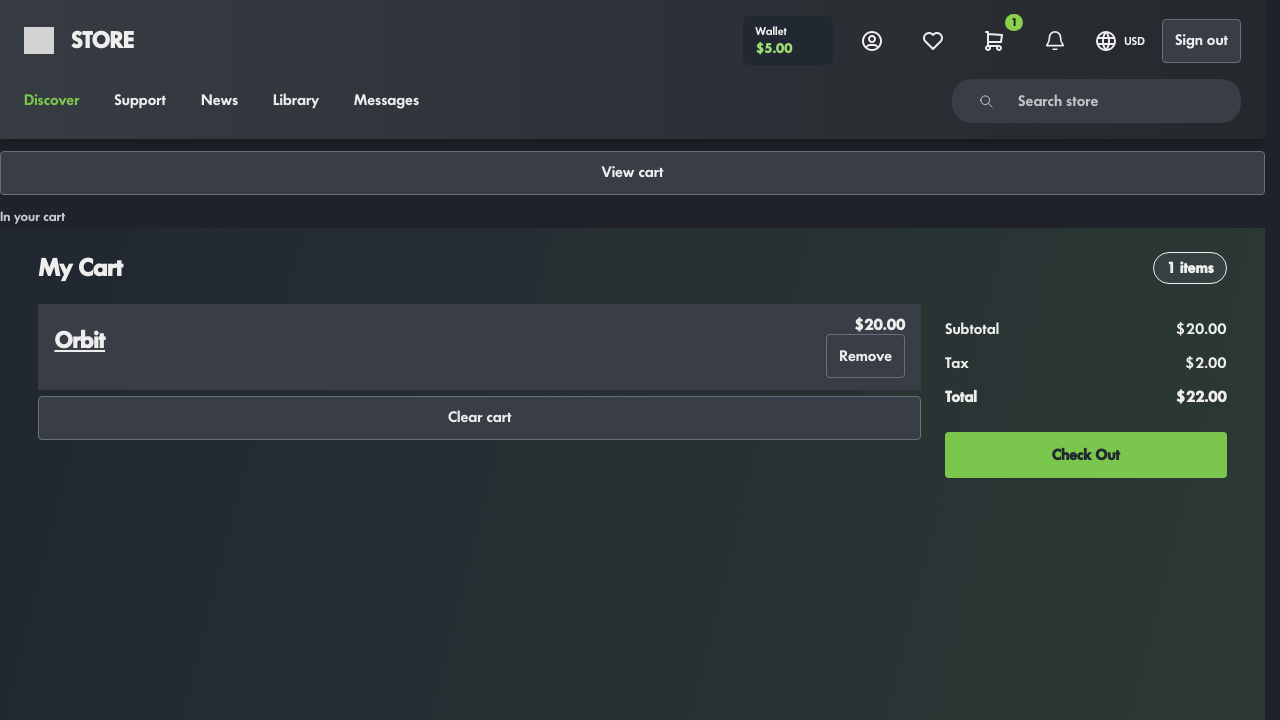
Test: blocks unsafe wallet payments and still allows choosing a bank card ({"balance":"5.00","currency":"USD","is_frozen":false})
Later steps or results of the test are not shown.
Click the button "Check Out" at (1086, 455), box [945,432,1227,478]
(page scrolled)
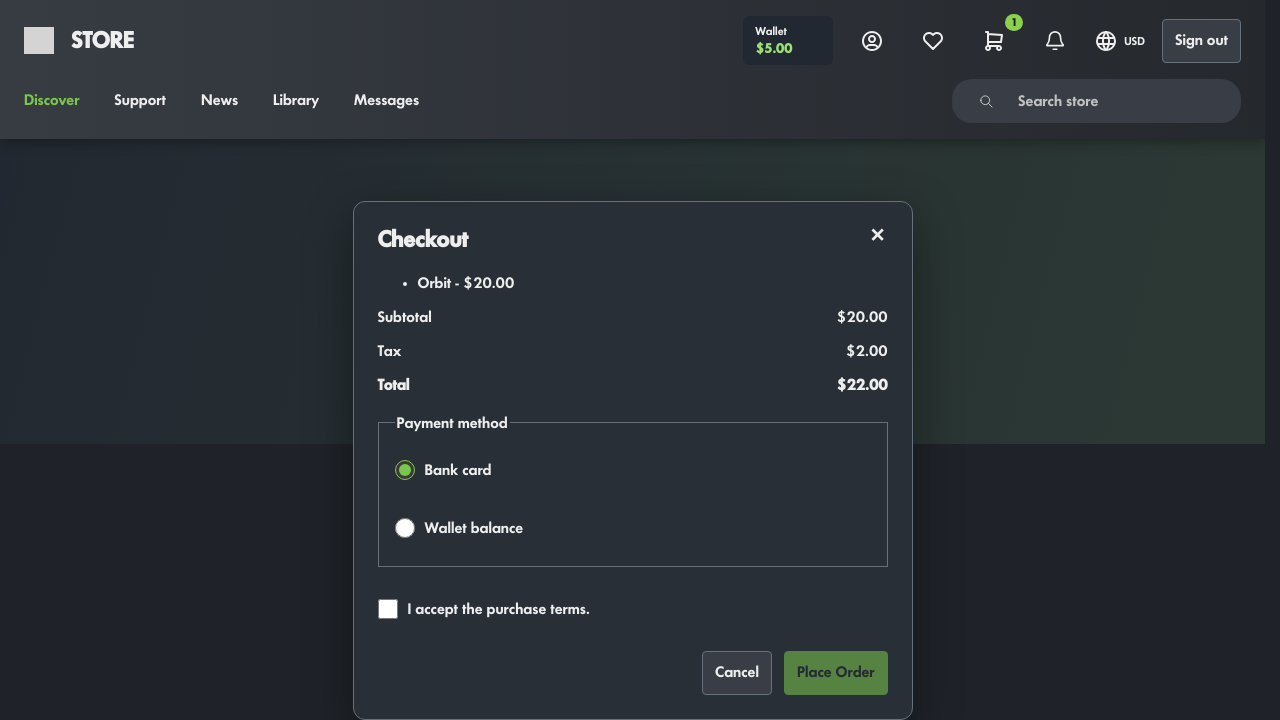
Click the radio button labelled "Wallet balance" at (404, 528), box [394,518,414,538]
(page scrolled)
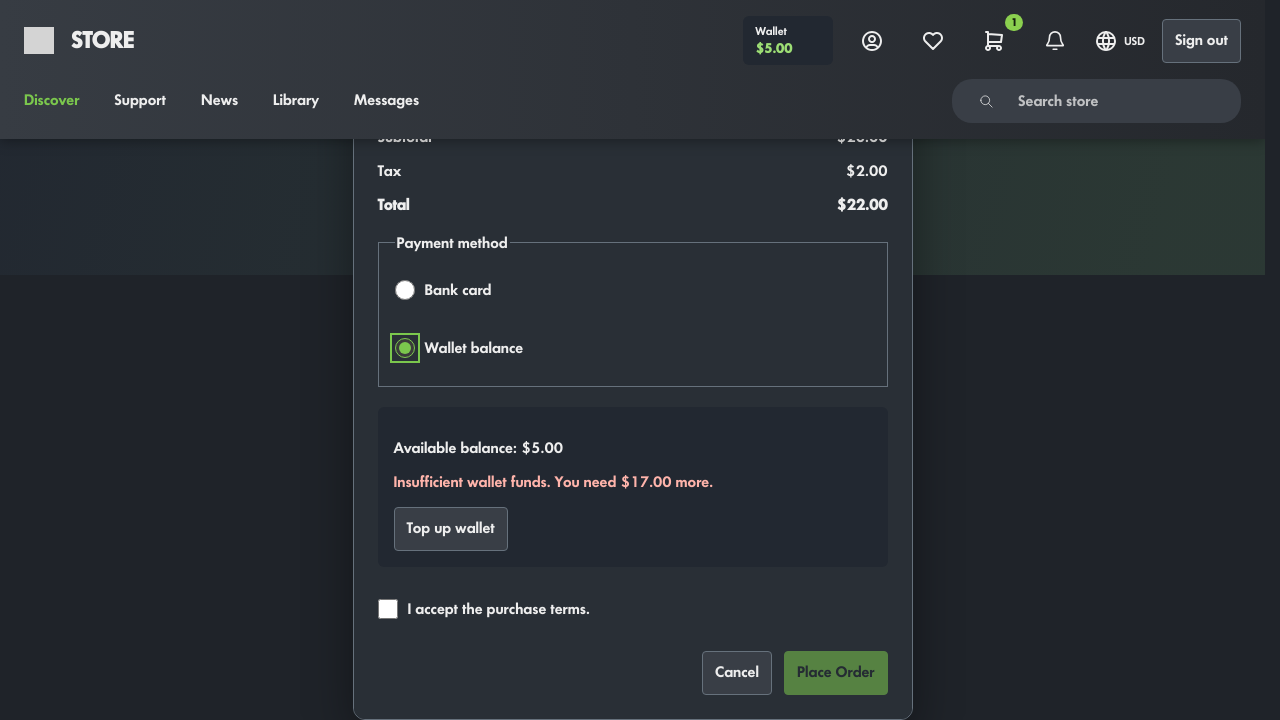
Click the checkbox at (388, 609), box [378,599,398,619]
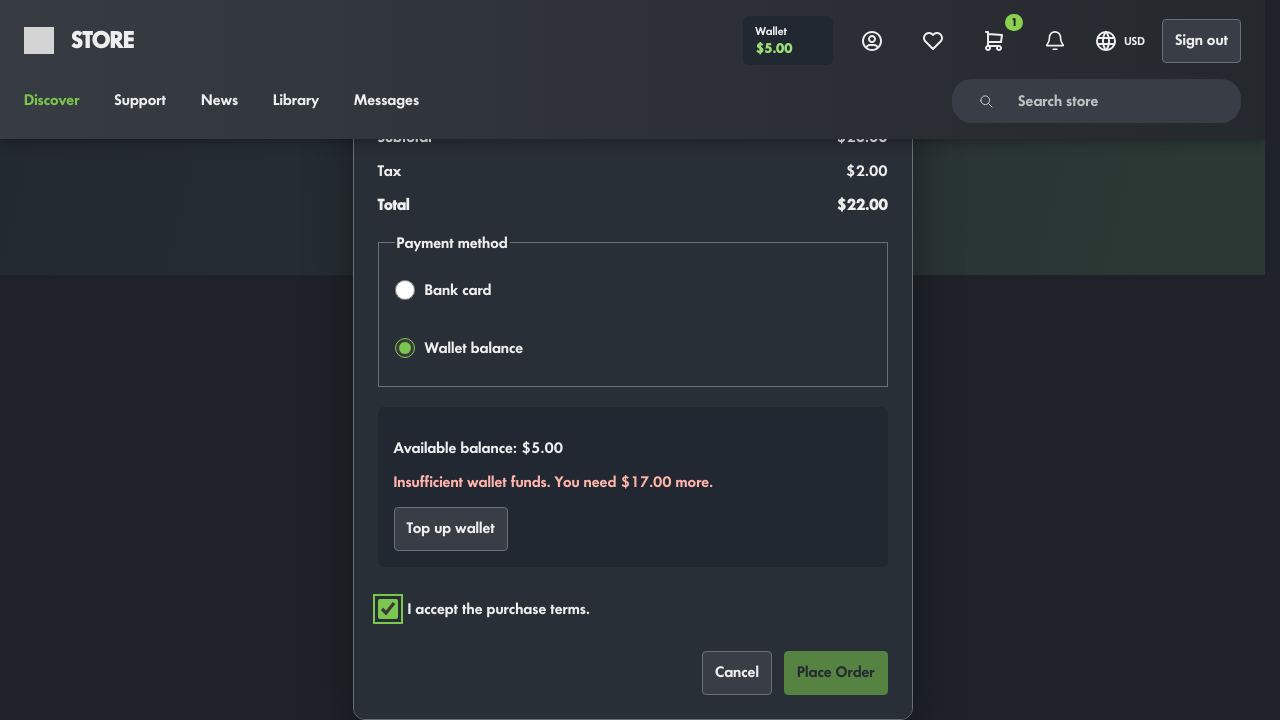
Result: the text "Insufficient wallet funds. You need $17.00 more." is shown at [394,474,713,490]
Result: the button "Place Order" is disabled
Click the button "Place Order" at (836, 673), box [784,651,888,695]
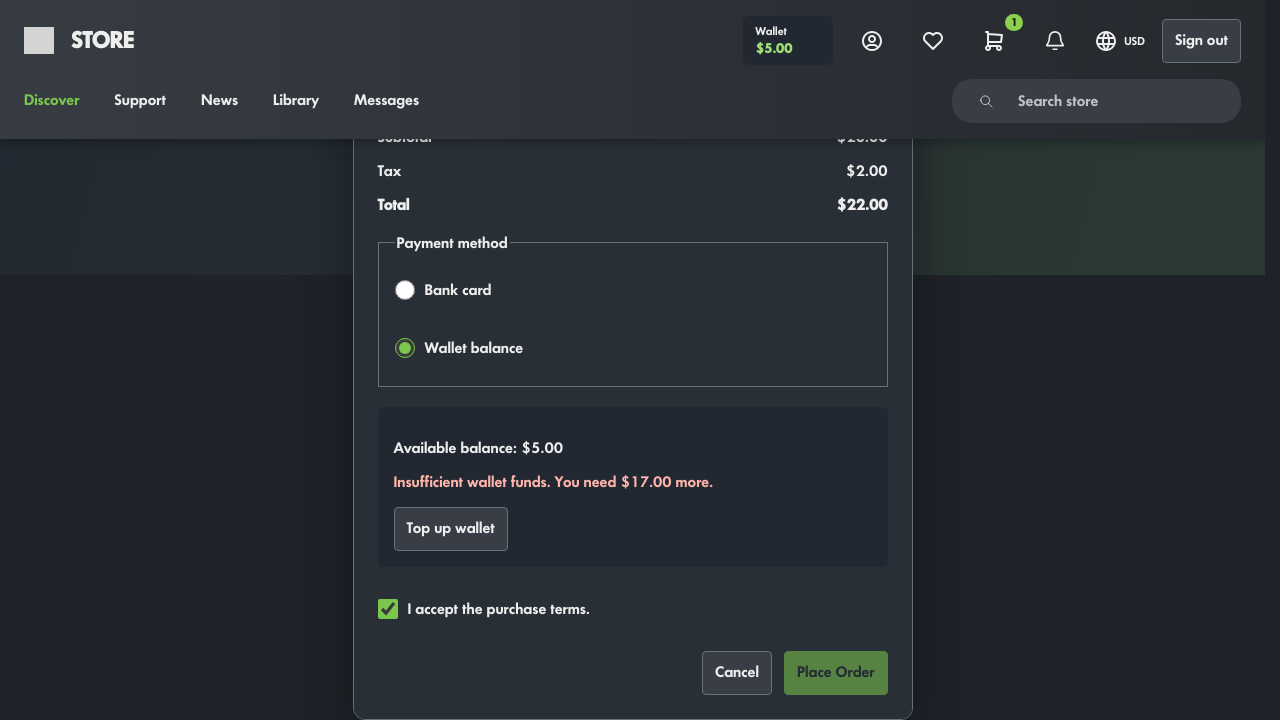
Click the radio button labelled "Bank card" at (404, 290), box [394,280,414,300]
(page scrolled)
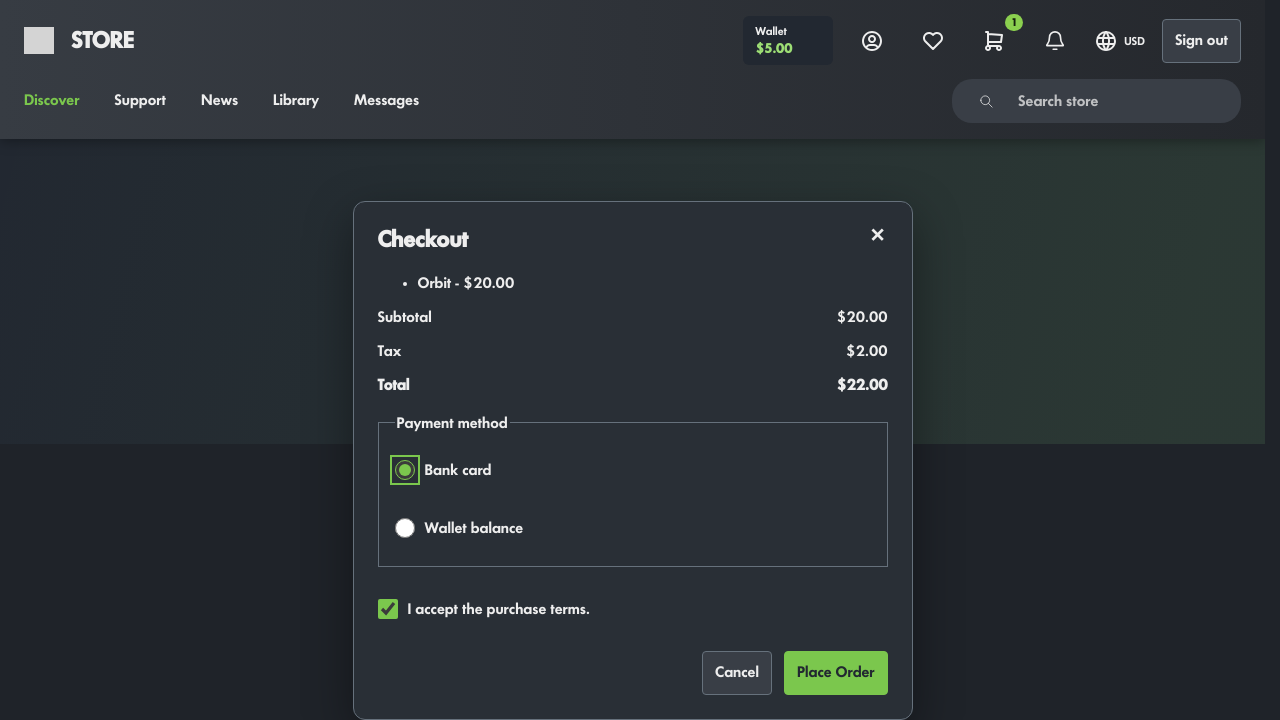
Result: the button "Place Order" is enabled at [784,651,888,695]
